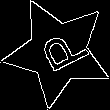P_SW: (27, 24, 89, 80)
